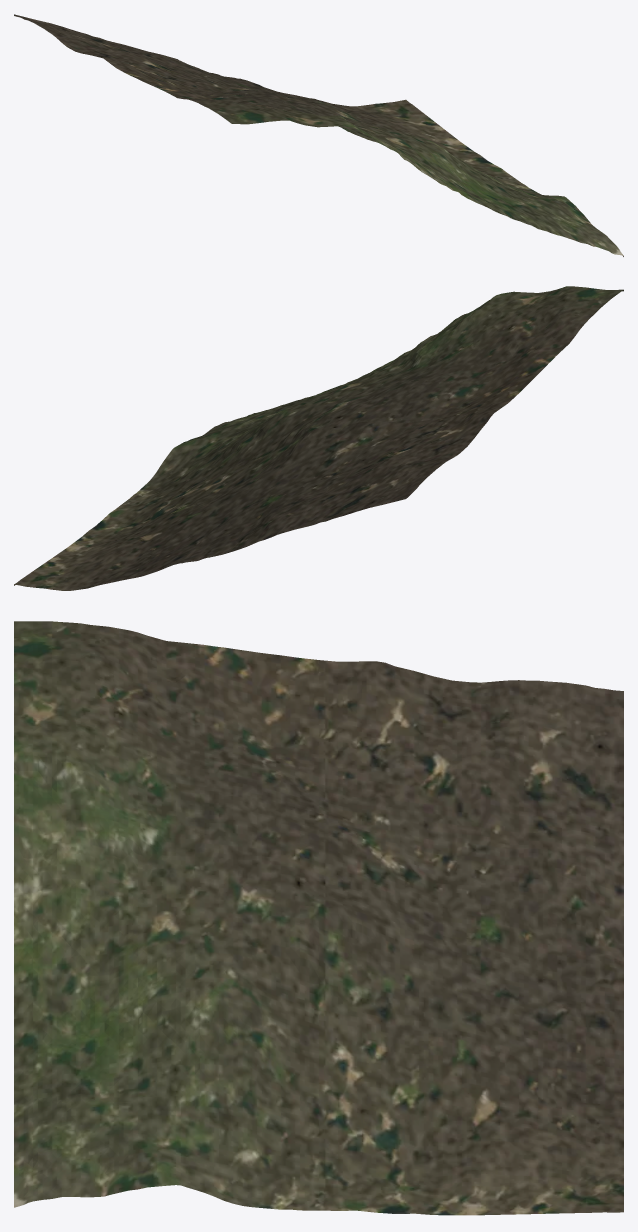
3 views of the same model, one above another, from view 1: azimuth 30°, elevation 25°; view 2: azimuth 150°, elevation 25°; view 3: azimuth 270°, elevation 25° (orthographic). The views are drawn at different scales.
Bounding box in the file's own units: 250 × 143 × 241.
1 material, 1 textured.
